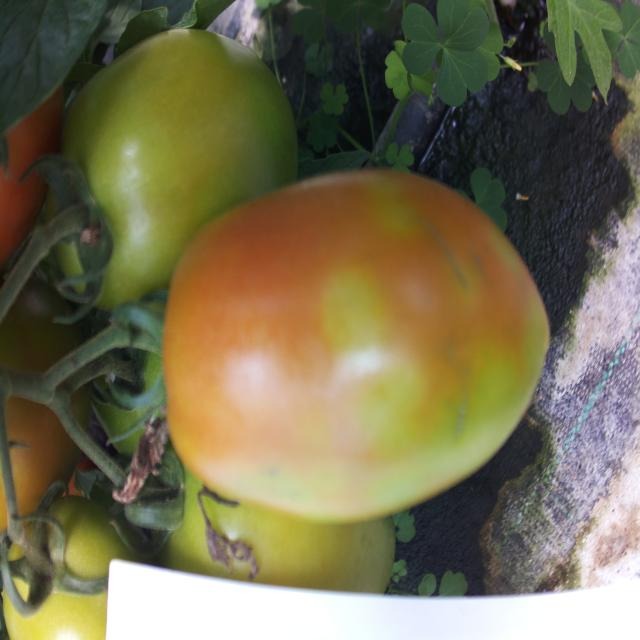sari: (110, 143, 574, 514)
